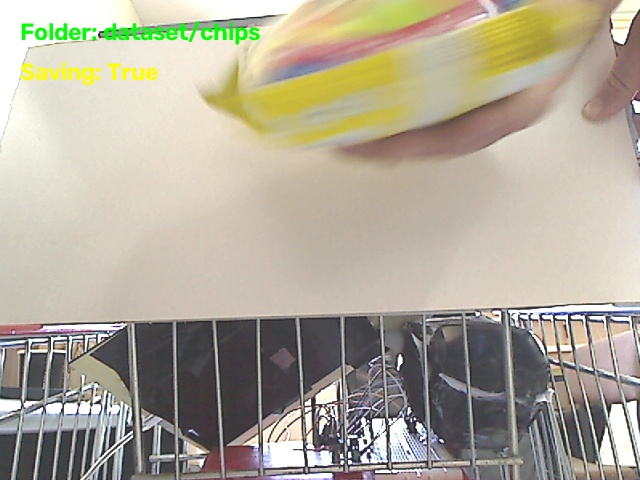chips: (204, 0, 601, 145)
